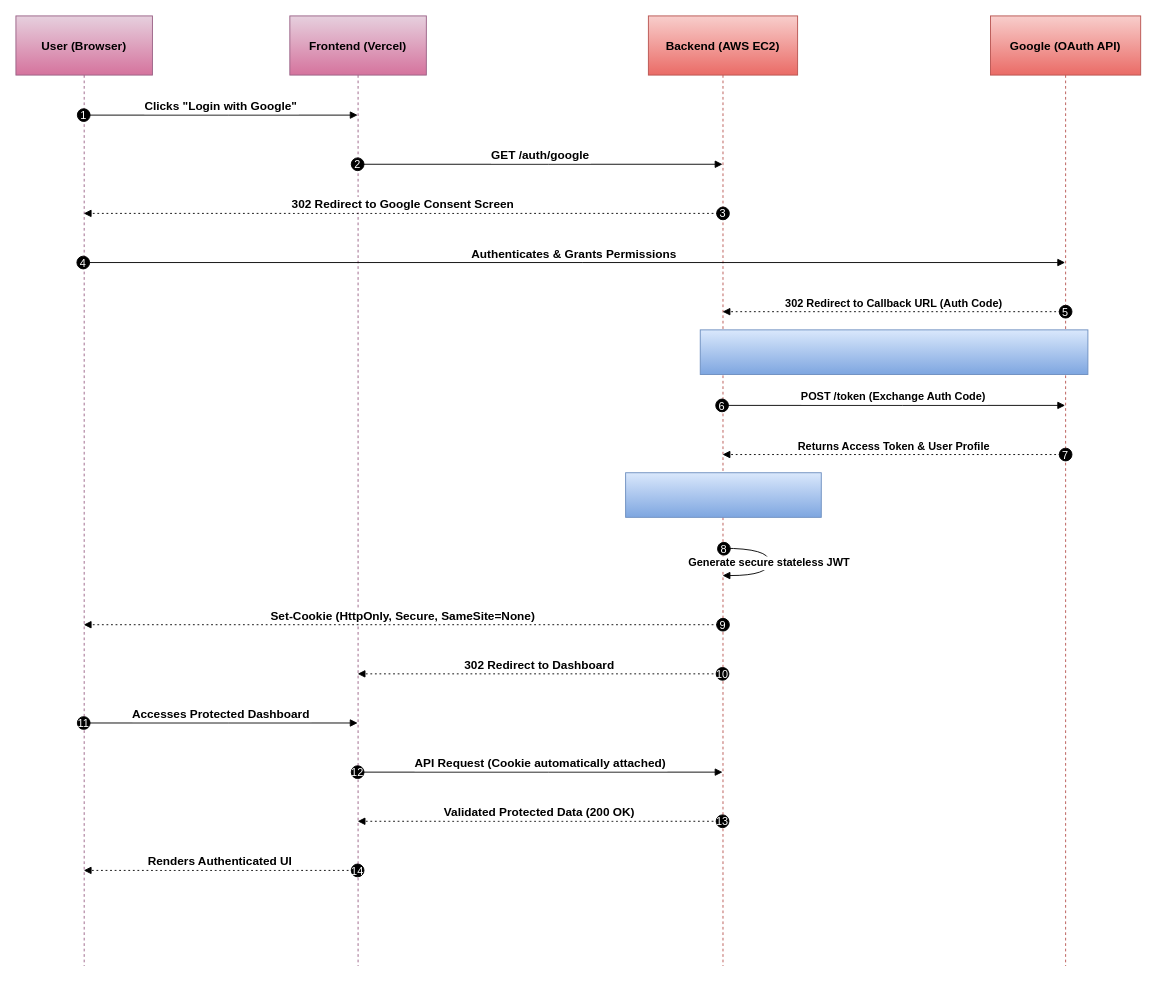
This 1157x982 diagram has some shape labels left out. Here are the shapes that lost their labels. From the top down, the centre of each, then its label:
the point at 893,351: Server-to-Server Security Phase
the point at 723,494: Session Generation Phase
